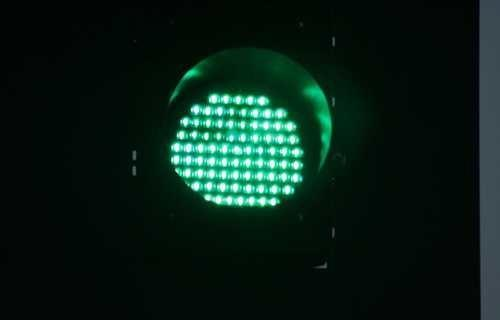red traffic light: (154, 54, 326, 224)
